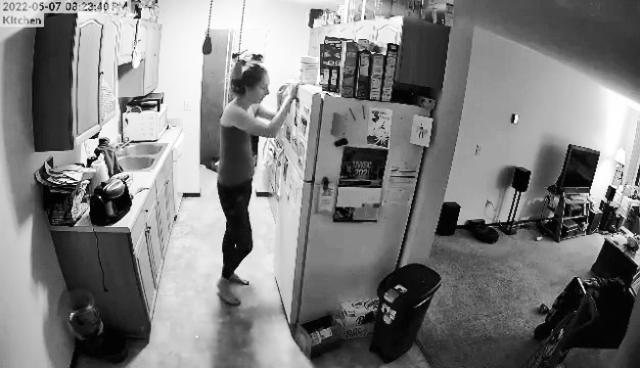berdiri: (215, 55, 269, 311)
